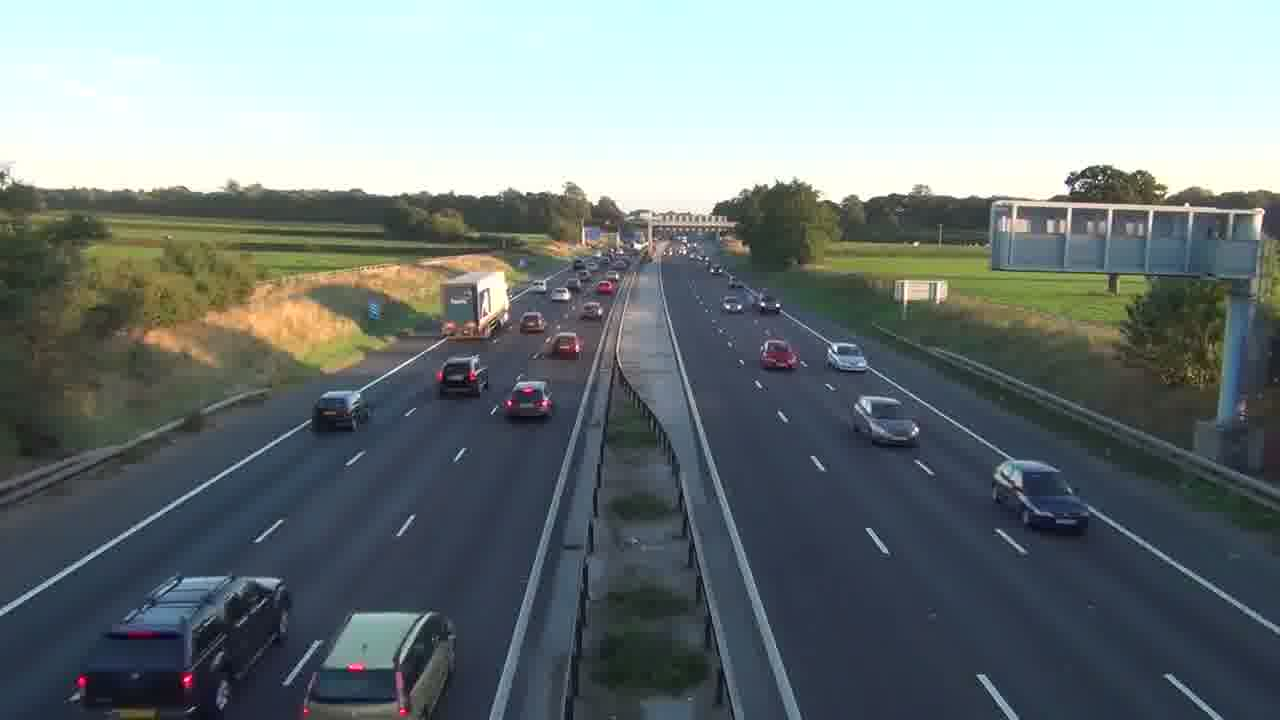car: (991, 459, 1090, 534), (850, 394, 921, 448), (850, 395, 921, 448), (312, 388, 365, 431), (435, 356, 488, 398), (504, 379, 555, 421), (825, 340, 869, 373), (759, 338, 800, 371), (553, 332, 583, 358), (519, 311, 546, 334)
truck: (67, 573, 293, 716)
